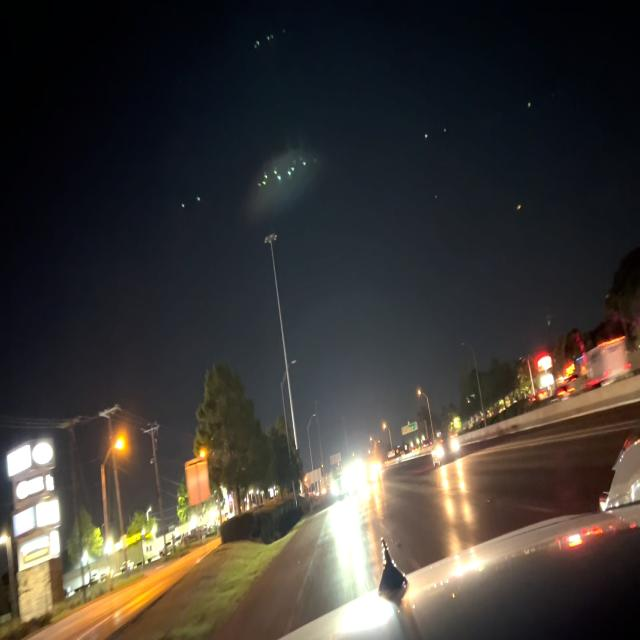back-of-sign: (185, 455, 211, 507)
